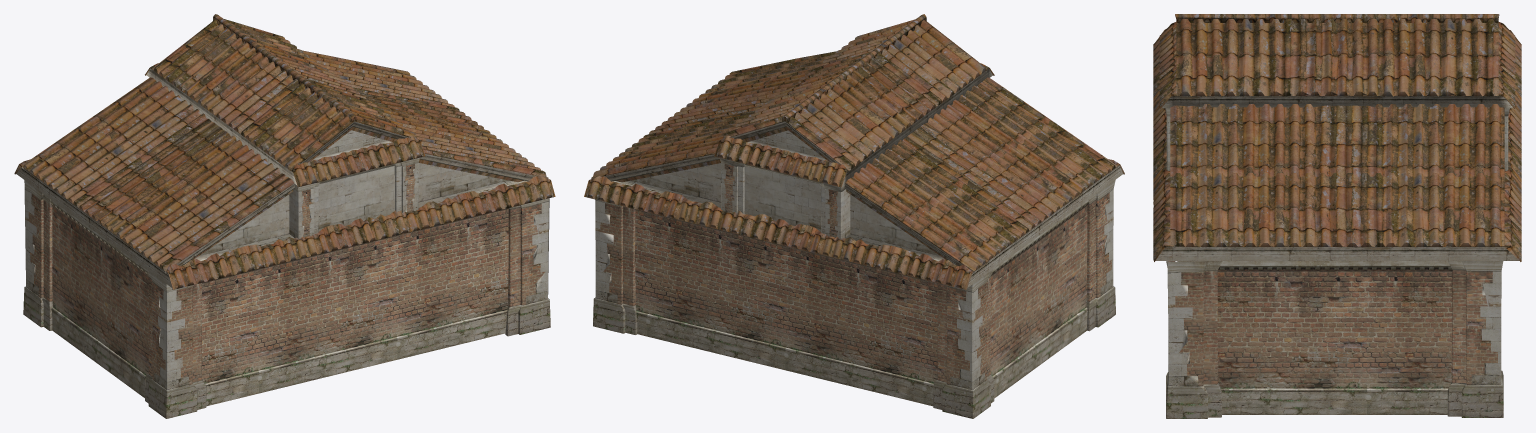
The model's file is Basic8.fbx.
3 renders of one model, left to right at view 1: azimuth 30°, elevation 25°; view 2: azimuth 150°, elevation 25°; view 3: azimuth 270°, elevation 25°, orthographic. The views are drawn at different scales.
Visible parts, largest first — view 1: LV_Campagna_City_CommonBuilding03_SM_CNH; view 2: LV_Campagna_City_CommonBuilding03_SM_CNH; view 3: LV_Campagna_City_CommonBuilding03_SM_CNH.
Boxes of the visible parts, <box> form: LV_Campagna_City_CommonBuilding03_SM_CNH: <box>14,14,555,418</box>; LV_Campagna_City_CommonBuilding03_SM_CNH: <box>584,14,1124,418</box>; LV_Campagna_City_CommonBuilding03_SM_CNH: <box>1153,14,1521,418</box>.
Size of the model in its own units: 4.4 by 2.79 by 3.15.
